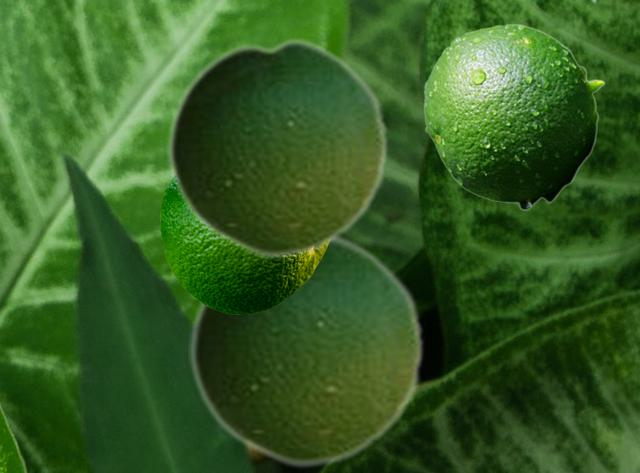dalandan: (188, 233, 424, 469), (166, 35, 388, 260), (423, 23, 604, 210), (160, 179, 328, 313)
